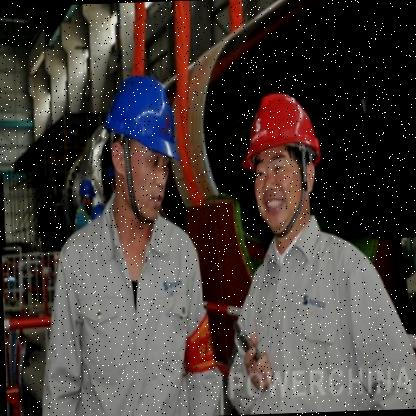capacete: (238, 89, 328, 240), (100, 70, 183, 226), (76, 178, 98, 210)
sem_colete_refletivo: (37, 210, 221, 415), (221, 221, 415, 415), (70, 202, 105, 228)
